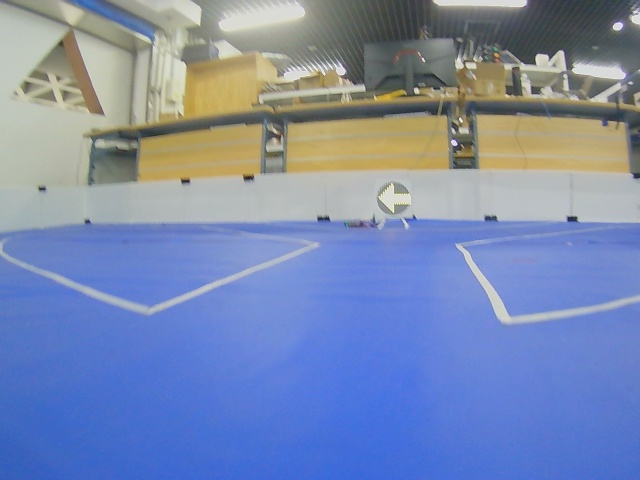left_yellow: (377, 182, 411, 215)
